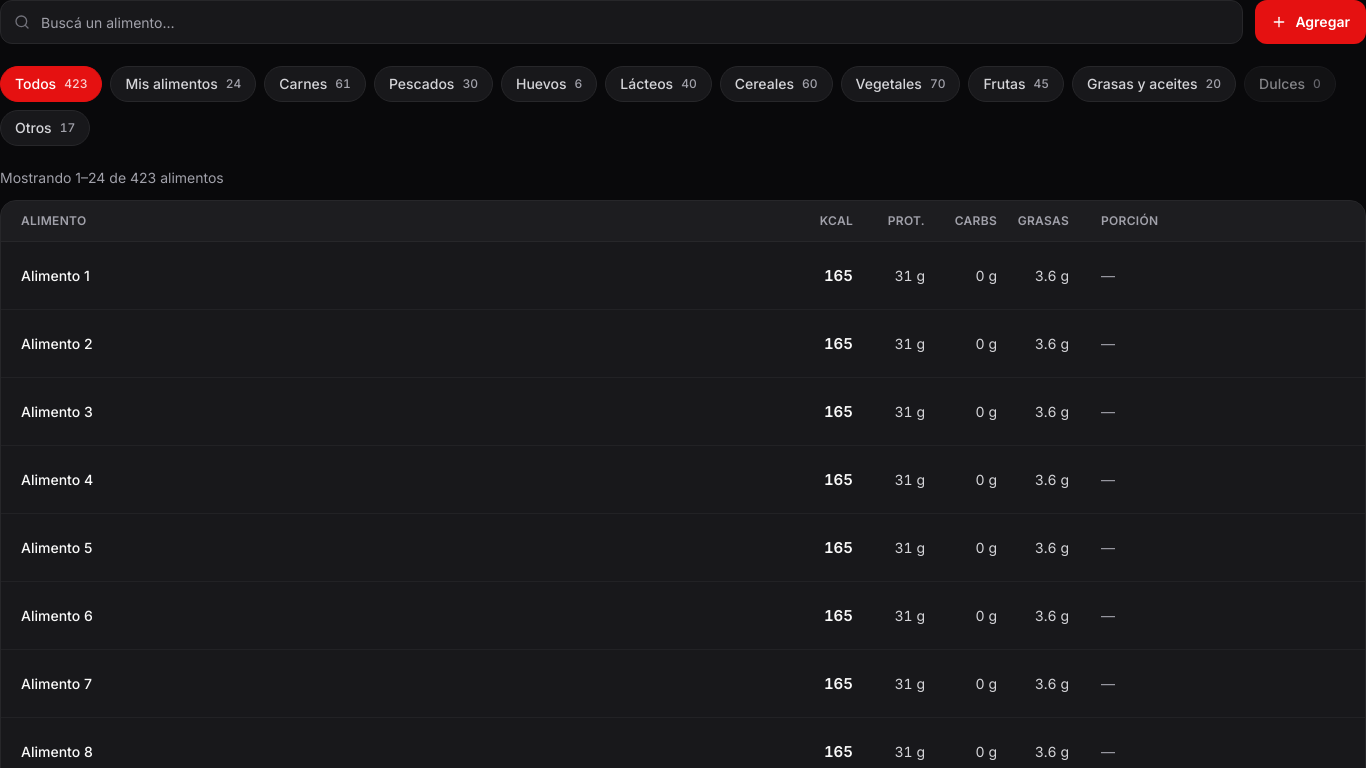
Test: create and edit › creates the food with the chosen category, then refreshes and closes
Click the button "Agregar".
click(1311, 22)  # box [1255,0,1365,44]
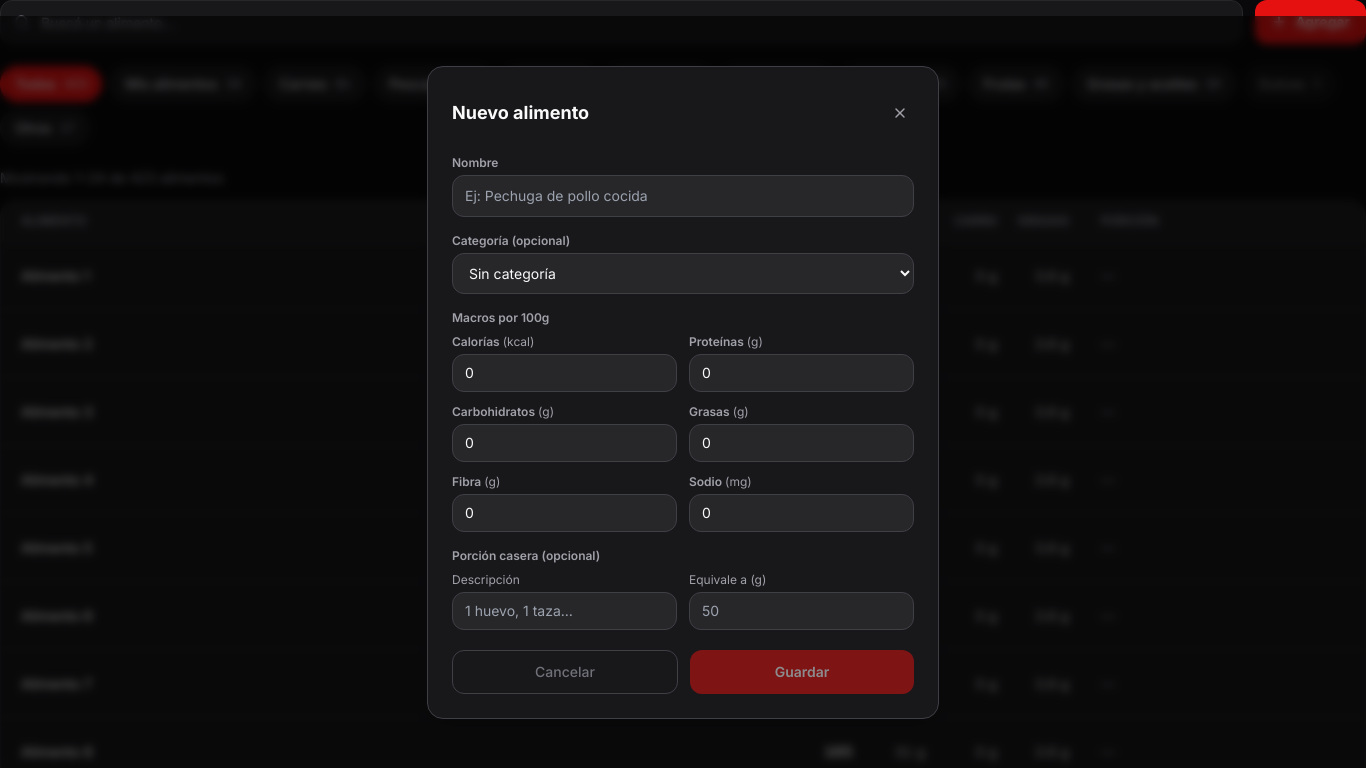
Type "Yogur casero" into the field labelled "Nombre".
click(683, 196); type("Yogur casero")  # box [452,174,914,216]
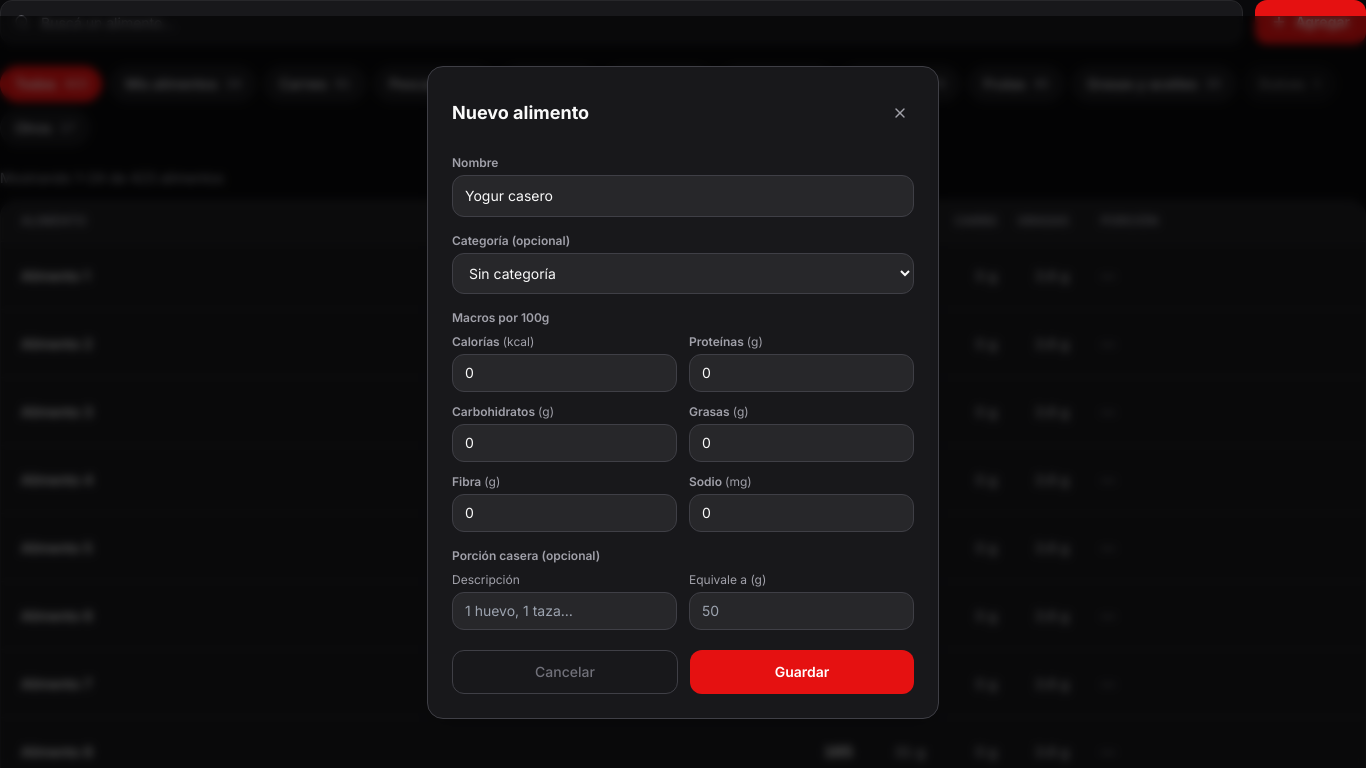
Select "Lácteos" in the dropdown labelled "Categoría (opcional)" at (683, 273), box [452,252,914,294]
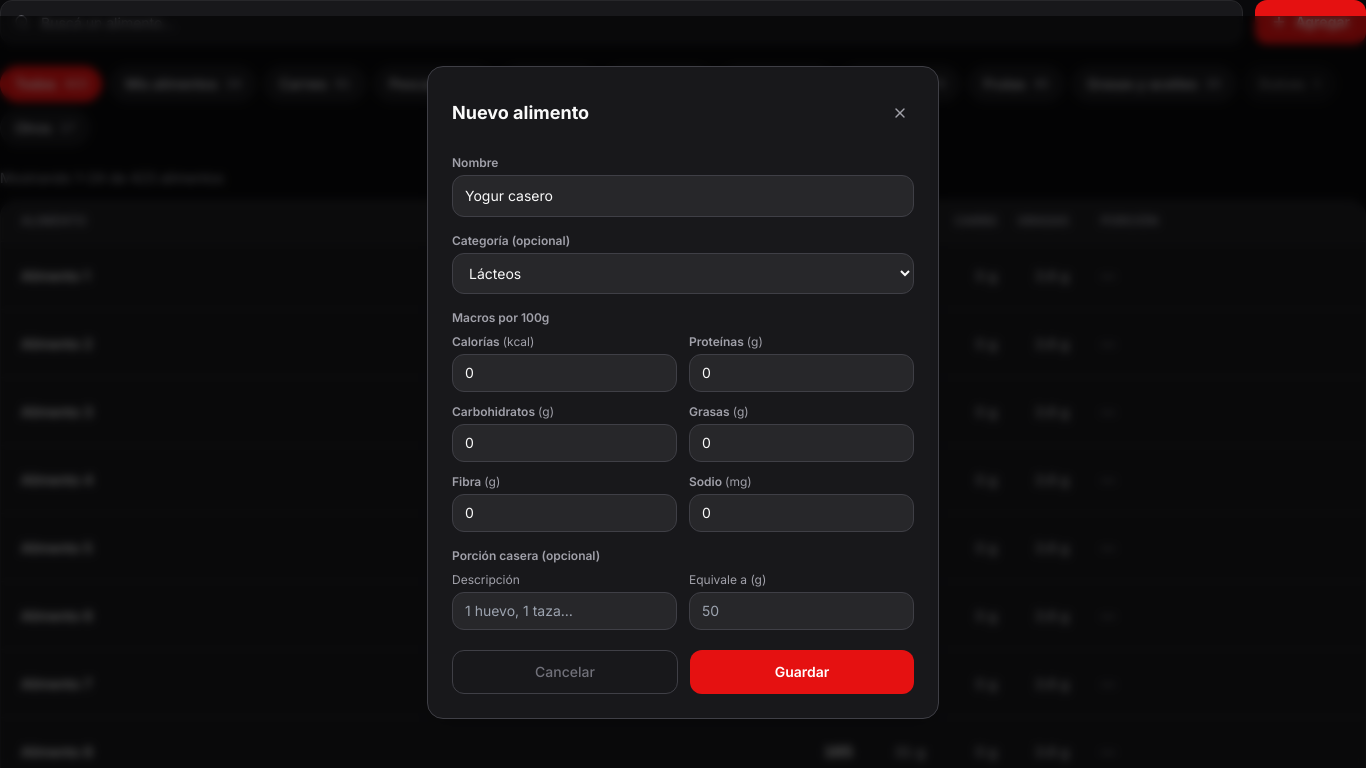
Replace the text in the number field labelled "Calorías (kcal)" with "62" at (564, 372), box [452,354,677,392]
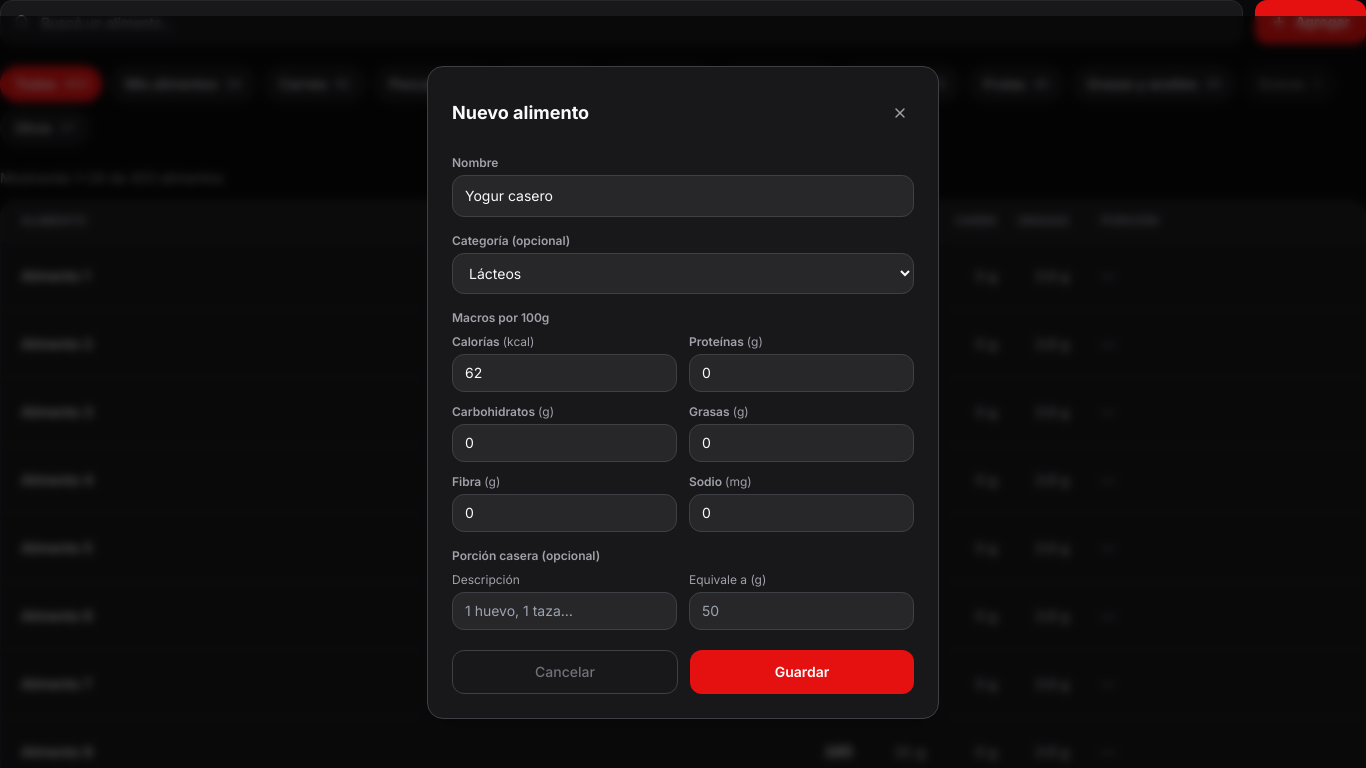
Click the button "Guardar".
click(802, 672)  # box [690,650,914,694]
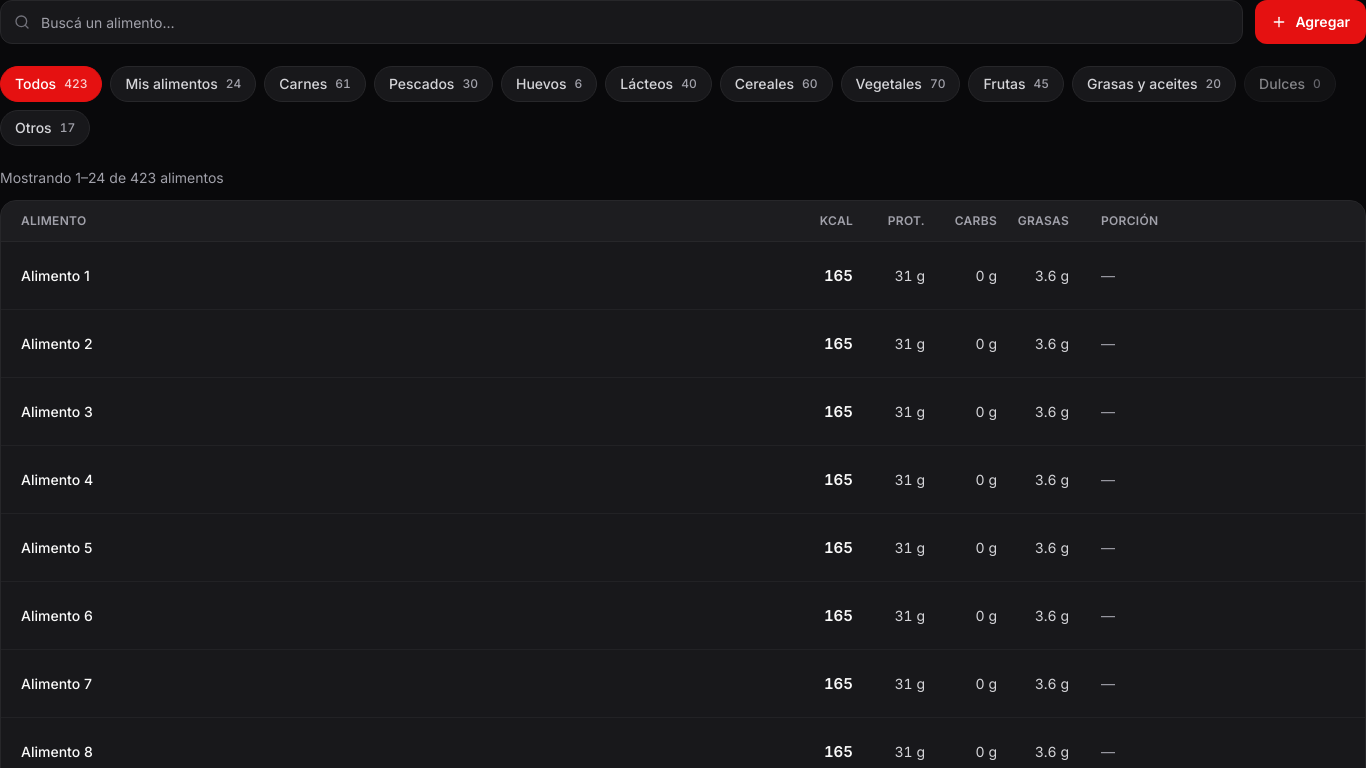
Result: the dialog is gone
